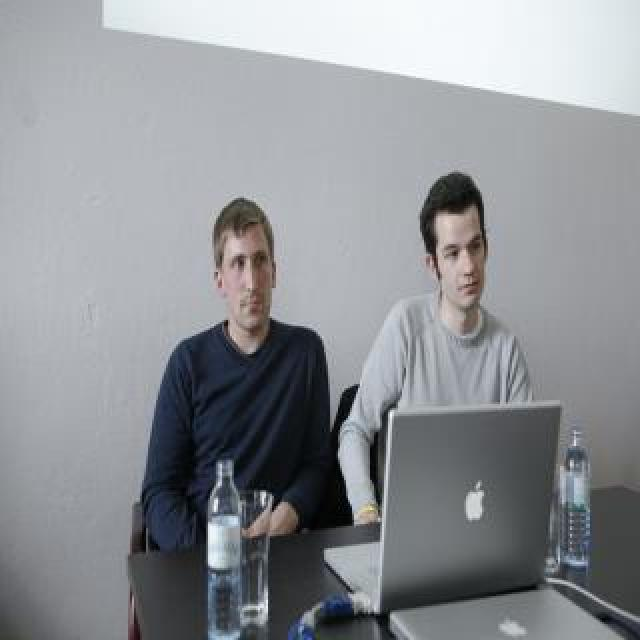laptop_computer: (325, 382, 562, 590), (392, 596, 634, 640)
